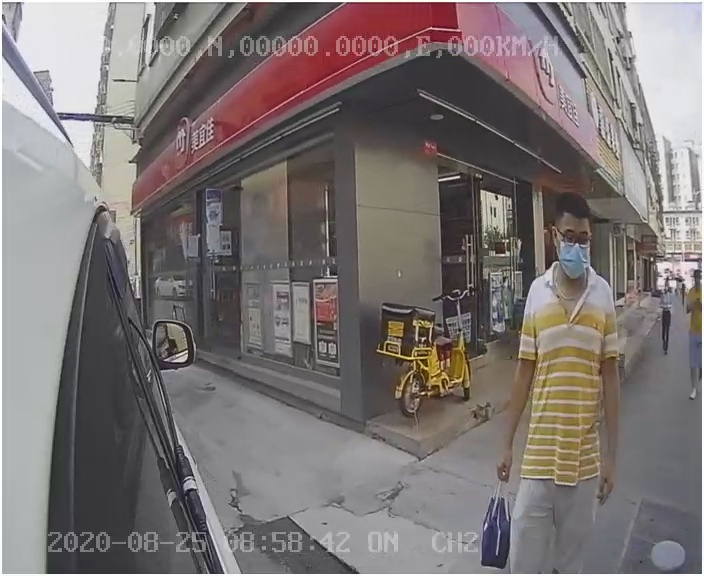person: (491, 191, 635, 549)
